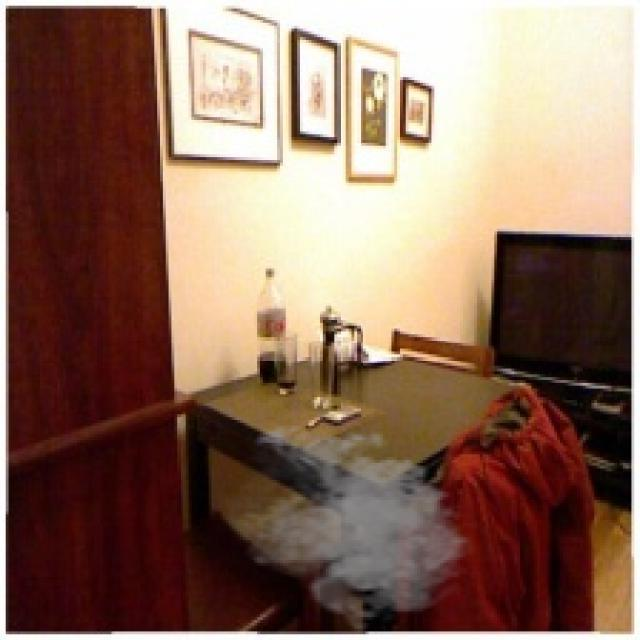Smoke: (220, 420, 477, 634)
